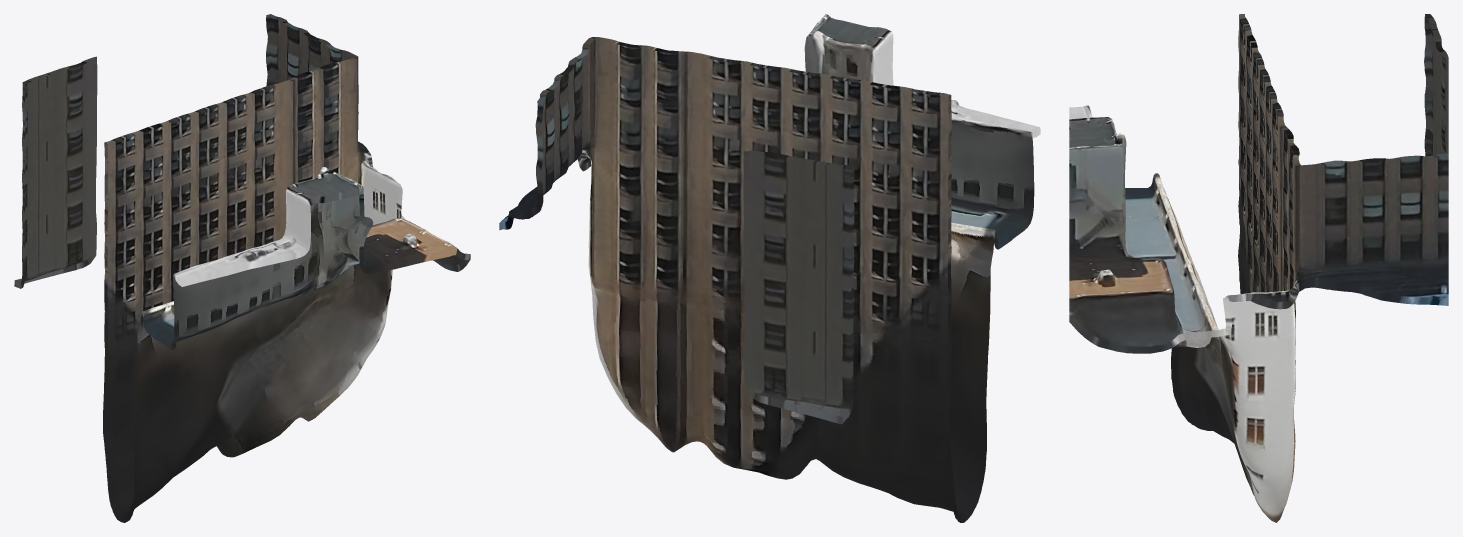
Rendered from z20-167768-405235-h0-yup-uvflip-v3-world.glb.
3 renders of one model, left to right at view 1: azimuth 30°, elevation 25°; view 2: azimuth 150°, elevation 25°; view 3: azimuth 270°, elevation 25°, orthographic. The views are drawn at different scales.
Bounding box in the file's own units: 30.2 × 36.76 × 30.32.
Materials: 1 (1 with a texture image).
